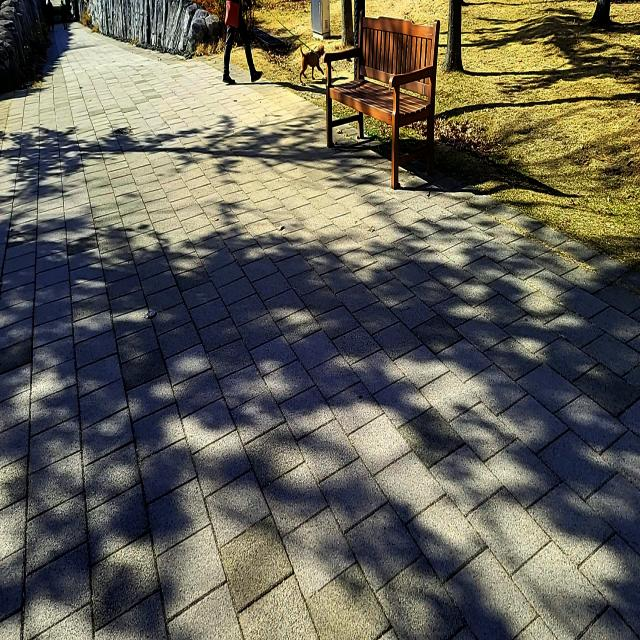Leashed_Dog: (234, 0, 325, 85)
